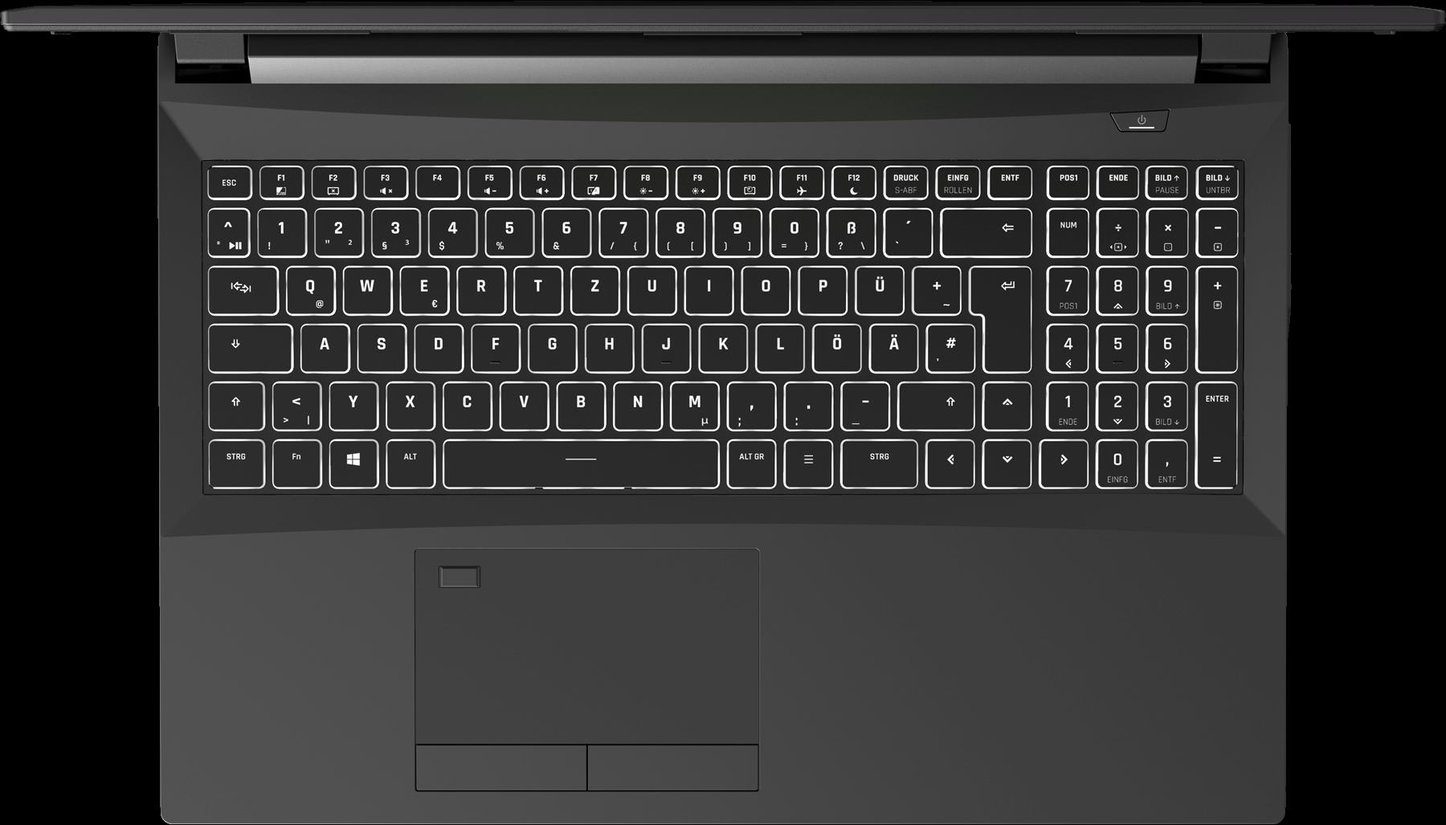0: (766, 202, 818, 254)
1: (253, 202, 305, 254)
2: (309, 202, 362, 254)
3: (366, 202, 419, 254)
4: (424, 202, 476, 254)
5: (481, 202, 533, 254)
6: (538, 202, 590, 254)
7: (595, 202, 647, 255)
8: (652, 202, 704, 255)
9: (709, 202, 762, 255)
a: (296, 318, 349, 370)
accent: (880, 202, 930, 253)
ae: (865, 318, 917, 370)
alt-left: (382, 435, 434, 485)
altgr-right: (723, 435, 775, 485)
b: (552, 376, 605, 428)
c: (439, 376, 491, 428)
caret: (203, 202, 248, 255)
comma: (723, 376, 774, 428)
d: (410, 318, 462, 370)
del: (937, 202, 1031, 254)
e: (396, 260, 447, 312)
enter: (964, 259, 1030, 370)
f: (468, 318, 518, 370)
g: (524, 318, 575, 370)
h: (581, 318, 632, 370)
hash: (922, 318, 974, 370)
i: (680, 260, 732, 311)
j: (638, 318, 688, 370)
k: (695, 317, 746, 370)
keyboard: (180, 145, 1251, 511)
l: (752, 318, 803, 370)
less: (268, 377, 321, 428)
m: (665, 376, 718, 428)
minus: (836, 377, 888, 427)
n: (609, 376, 661, 428)
o: (737, 261, 789, 312)
oe: (809, 319, 860, 370)
p: (794, 260, 845, 312)
plus: (908, 260, 958, 312)
point: (780, 377, 831, 428)
q: (281, 260, 334, 312)
r: (453, 260, 504, 312)
s: (353, 319, 405, 370)
shift-left: (204, 377, 263, 428)
shift-lock: (203, 319, 291, 370)
shift-right: (894, 376, 974, 427)
space: (439, 435, 718, 486)
ss: (822, 203, 875, 254)
strg-left: (203, 434, 263, 485)
strg-right: (836, 434, 917, 485)
t: (510, 260, 561, 312)
tab: (203, 261, 276, 312)
u: (623, 260, 675, 312)
ue: (851, 260, 903, 312)
v: (496, 376, 548, 428)
w: (339, 259, 390, 312)
x: (382, 376, 434, 428)
y: (325, 377, 377, 428)
z: (566, 260, 618, 312)
